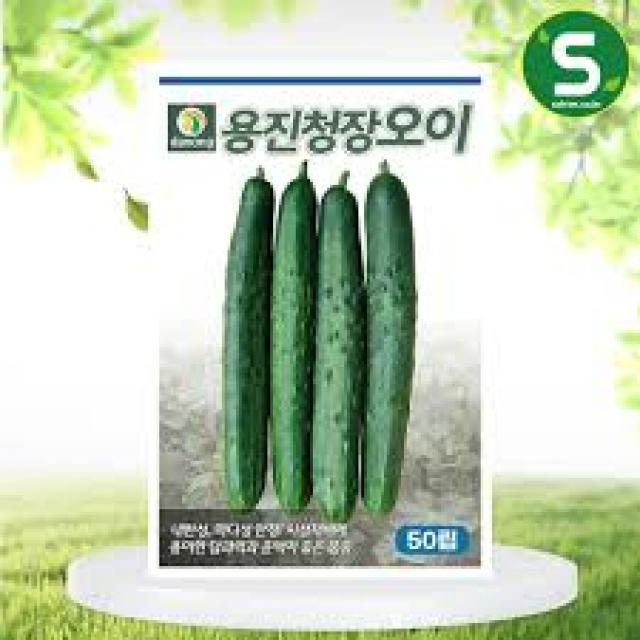Cucumber: (213, 156, 273, 512), (361, 159, 418, 512), (313, 165, 364, 523)
